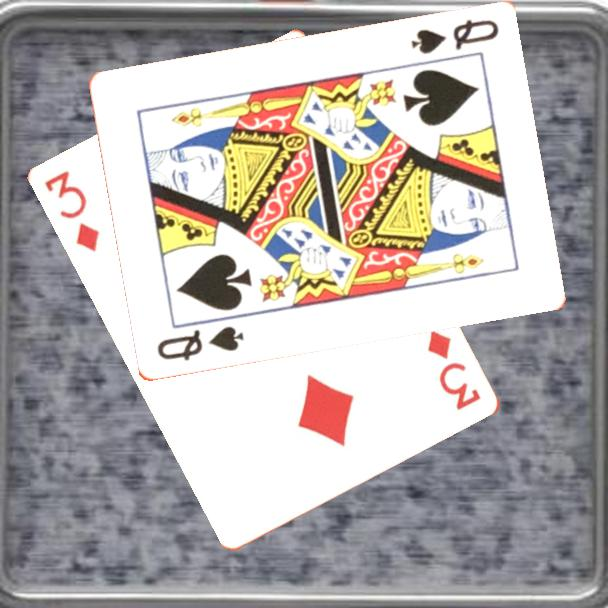d03: (41, 167, 103, 255), (424, 326, 485, 413)
s12: (407, 16, 501, 58), (153, 323, 247, 364)
